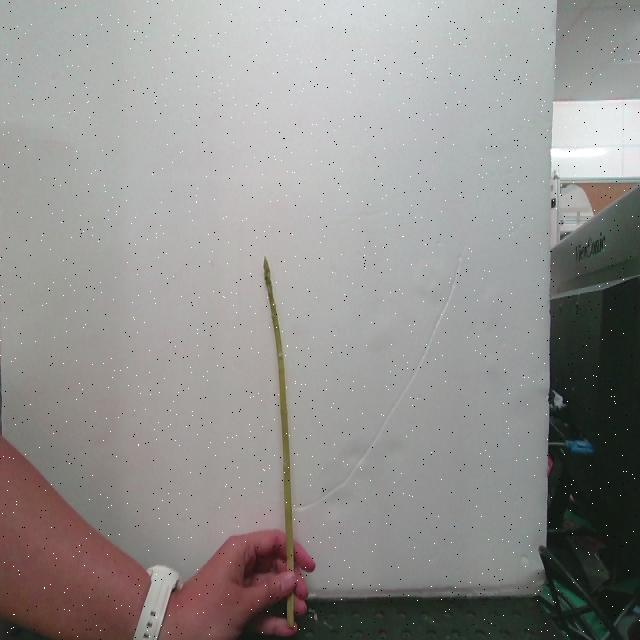aspargus: (264, 260, 295, 572)
